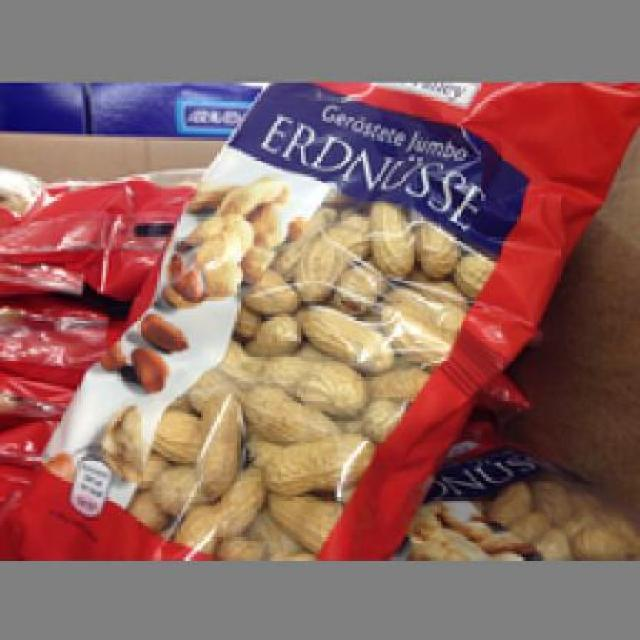Nuts: (5, 82, 638, 558)
